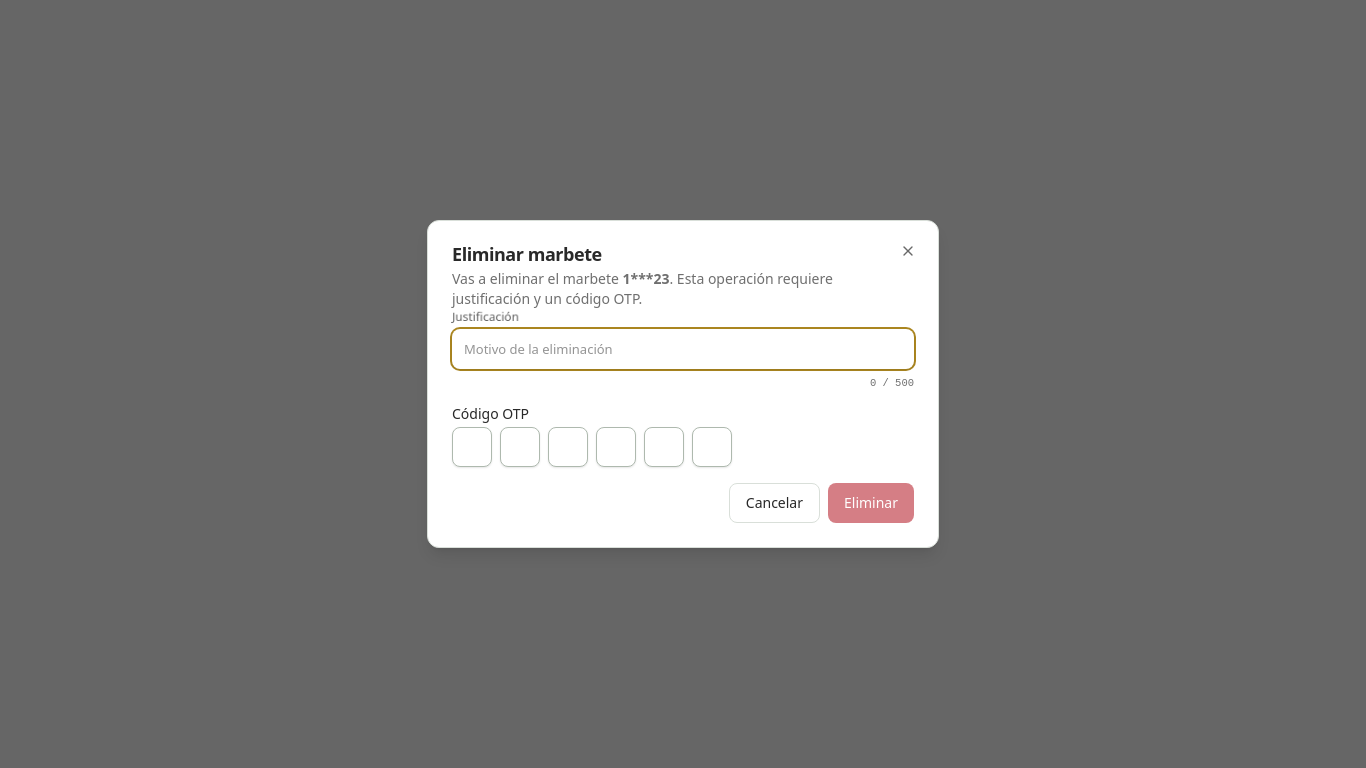
Test: DeleteDialog › shows error when API returns 401 (OTP invalid)
Type "lost" into the field with test id "delete-reason" at point(683, 349), box [452, 329, 914, 369]
Type "1" into the field named "Digit" at point(472, 447), box [452, 427, 492, 467]
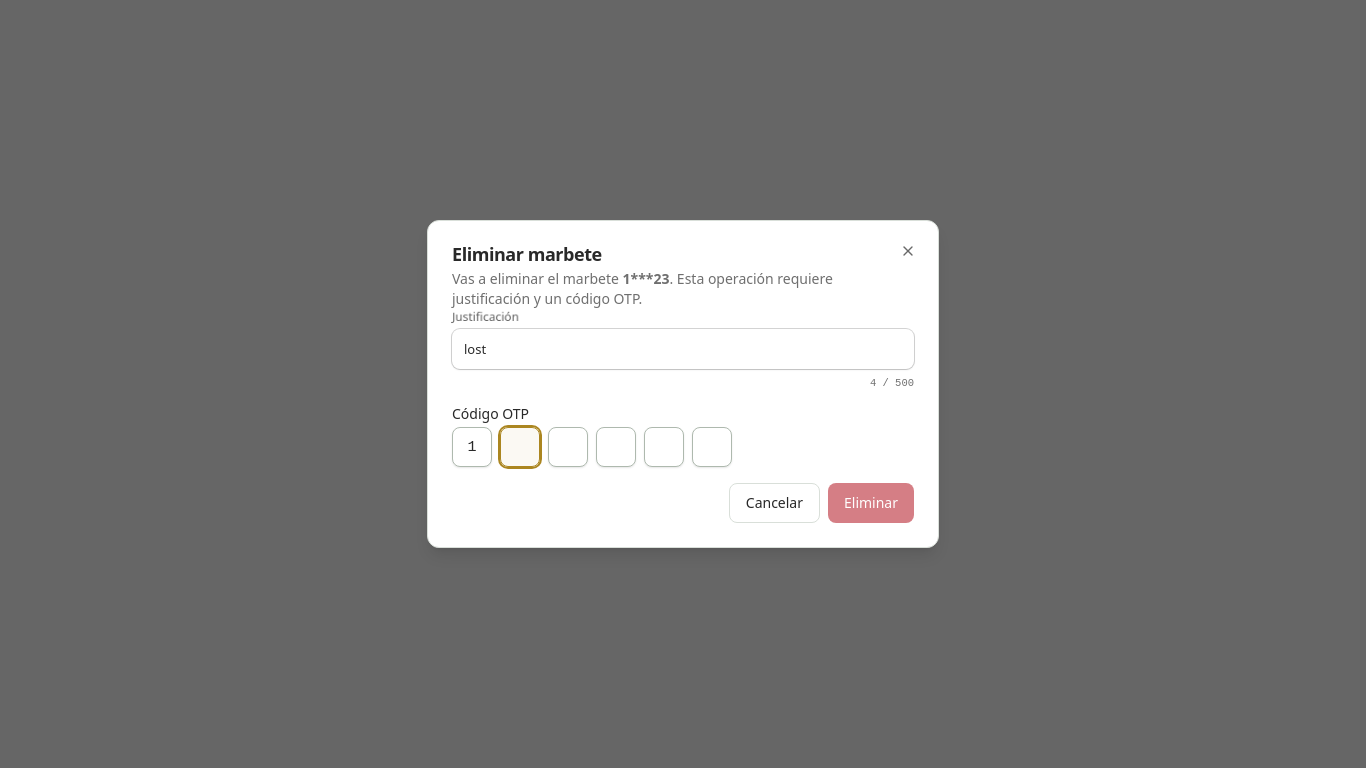
Type "1" into the field named "Digit" at point(520, 447), box [500, 427, 540, 467]
Type "1" into the field named "Digit" at point(568, 447), box [548, 427, 588, 467]
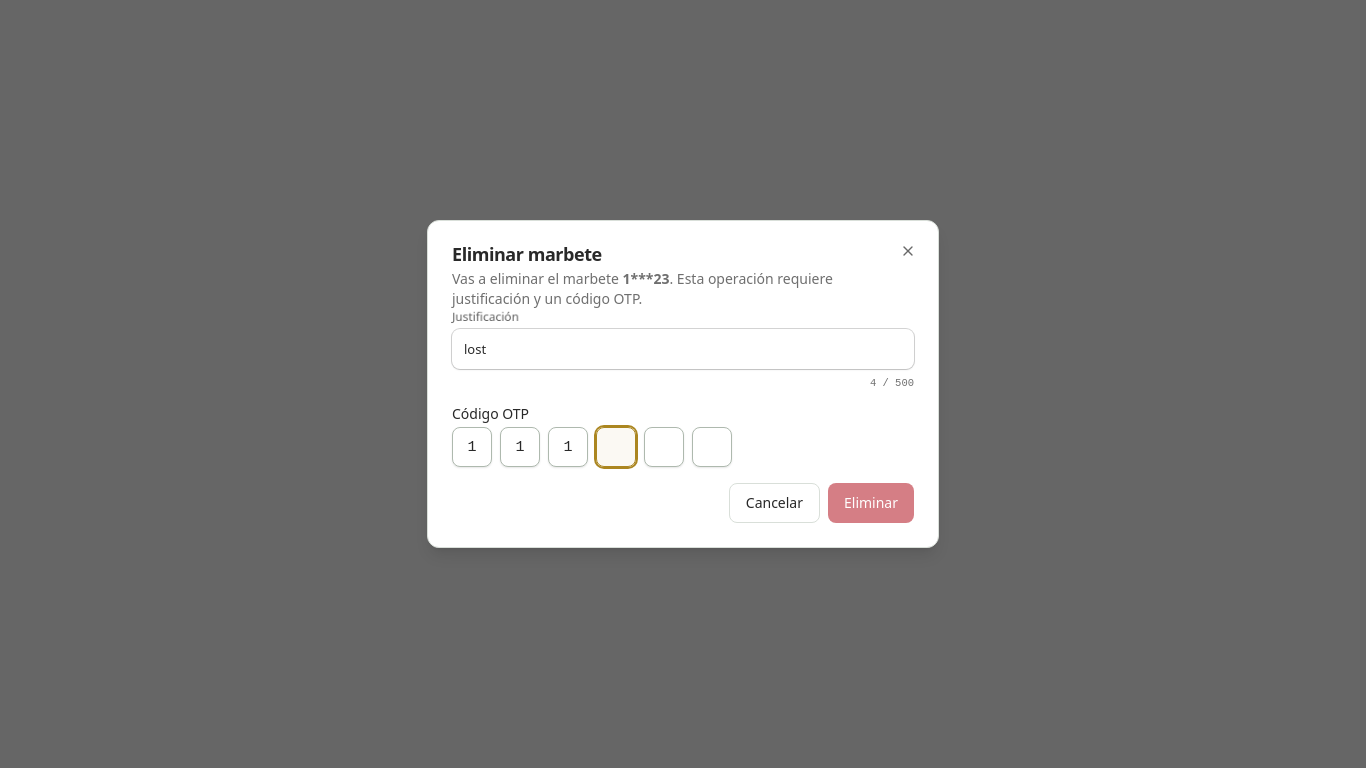
Type "1" into the field named "Digit" at point(616, 447), box [596, 427, 636, 467]
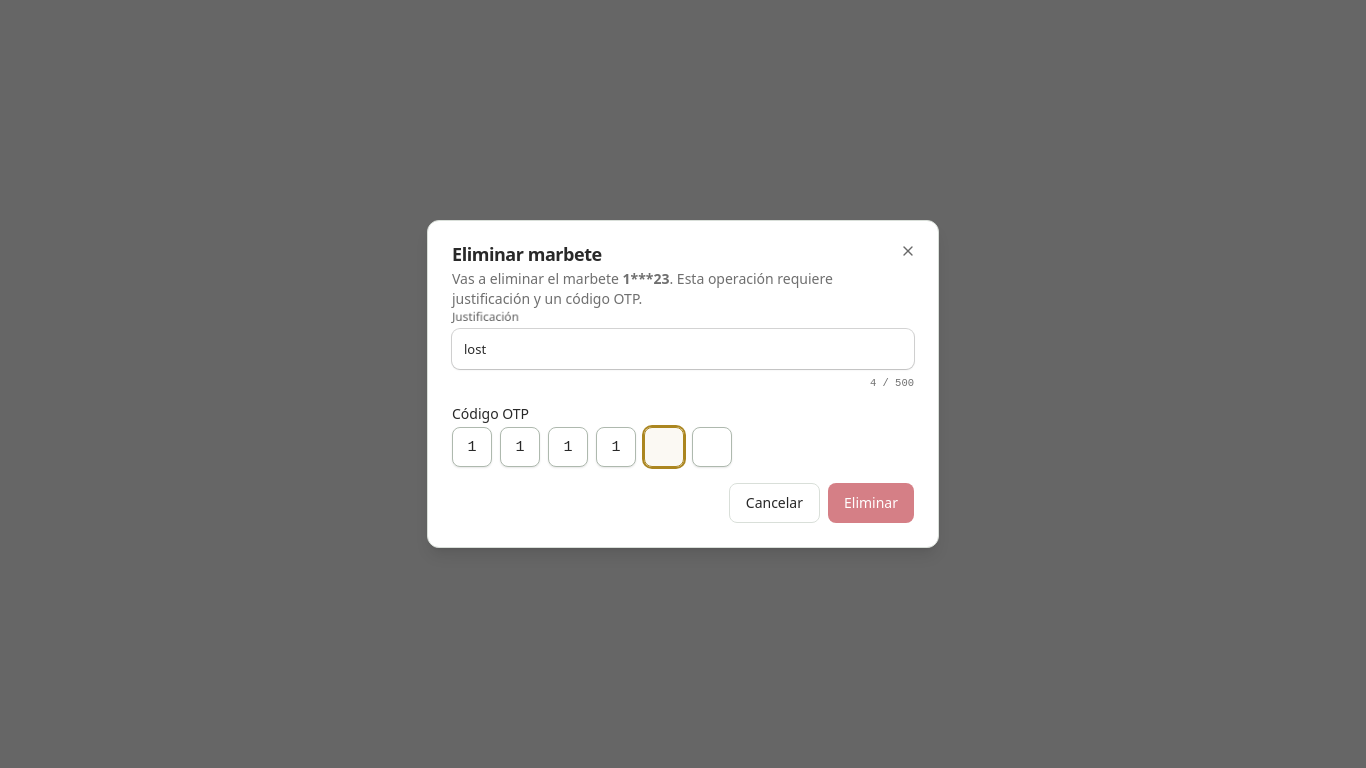
Type "1" into the field named "Digit" at point(664, 447), box [644, 427, 684, 467]
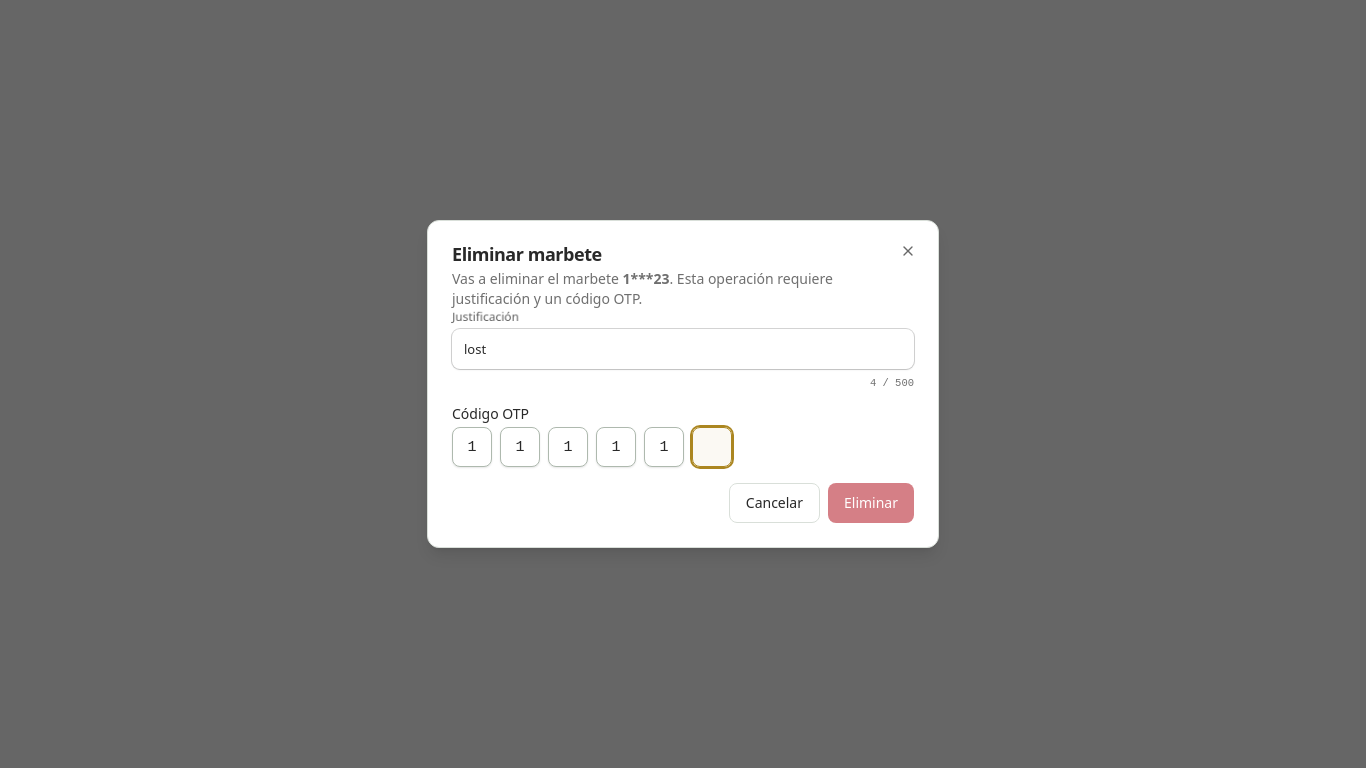
Type "1" into the field named "Digit" at point(712, 447), box [692, 427, 732, 467]
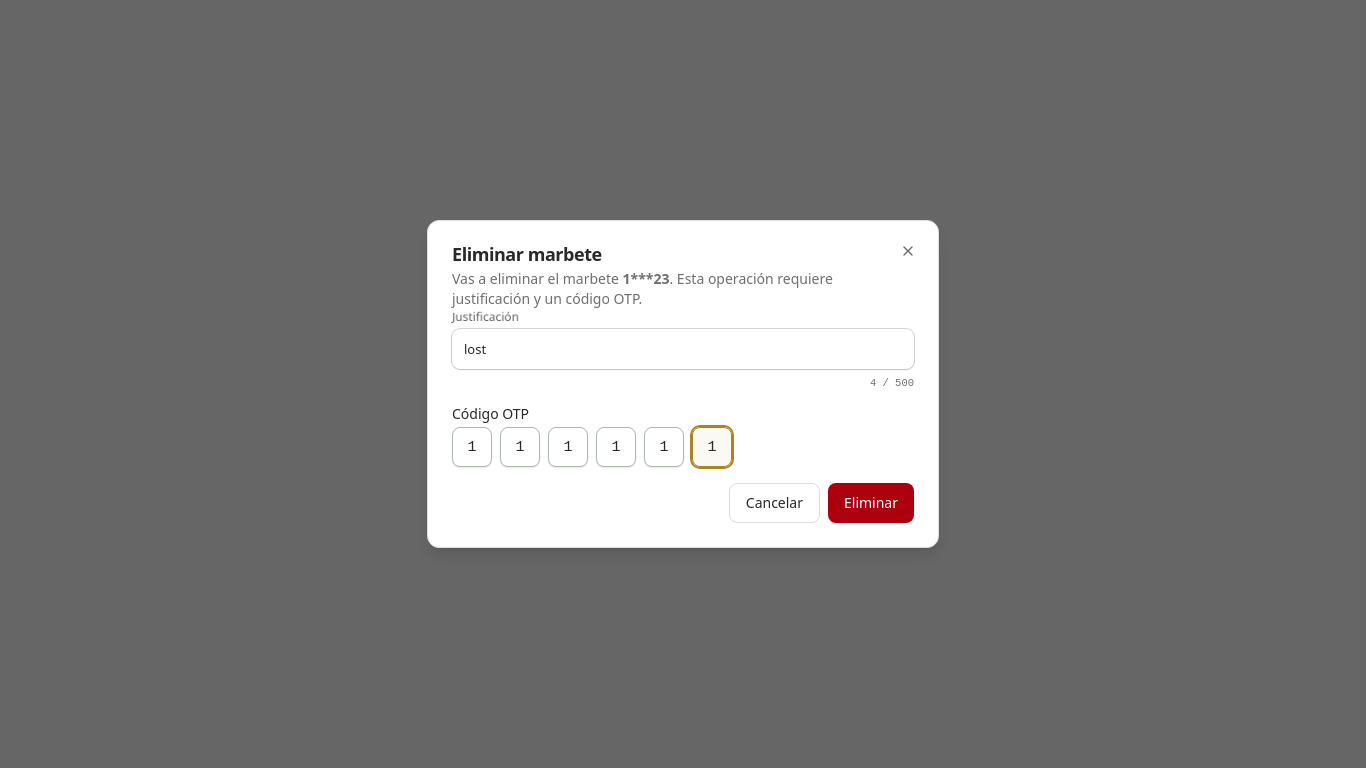
Click the button with test id "delete-submit" at point(871, 503), box [828, 483, 914, 523]
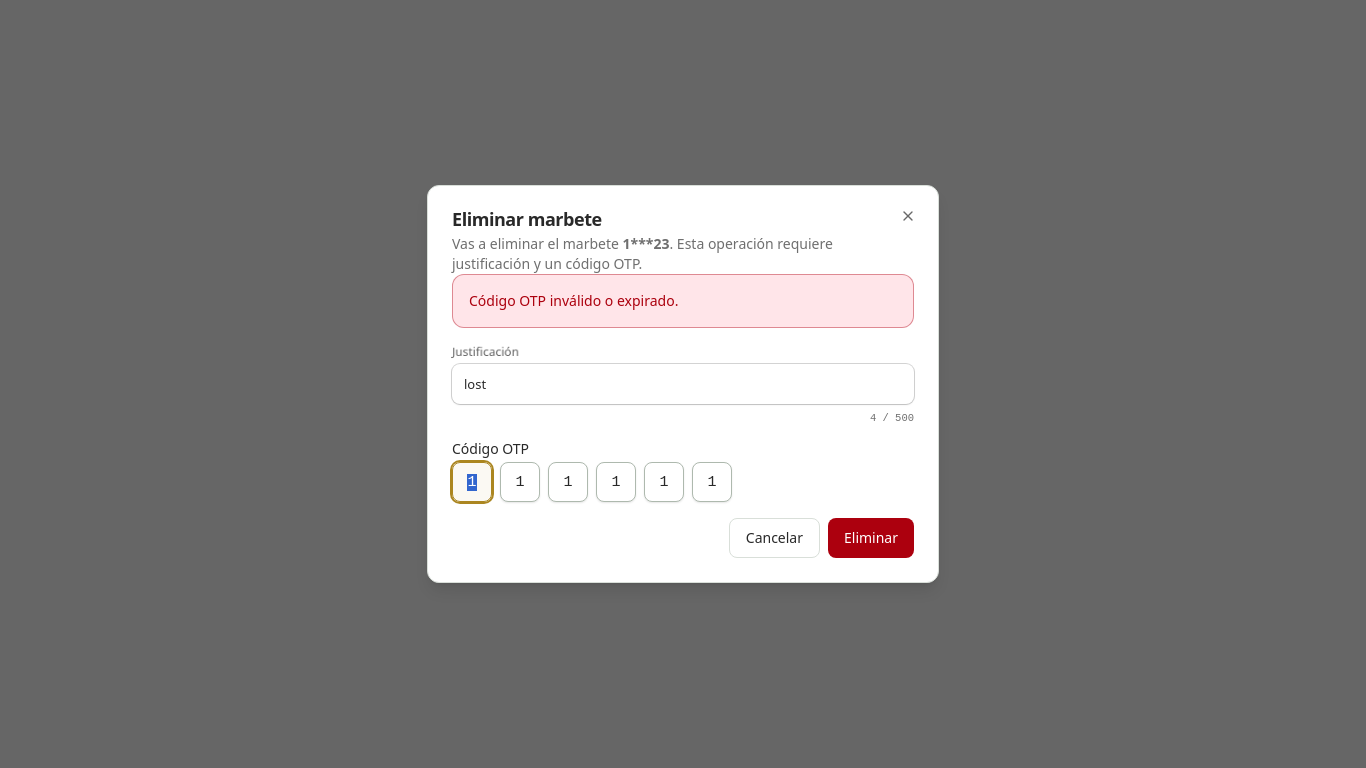
Now the message shows "OTP", box [469, 291, 678, 310]
